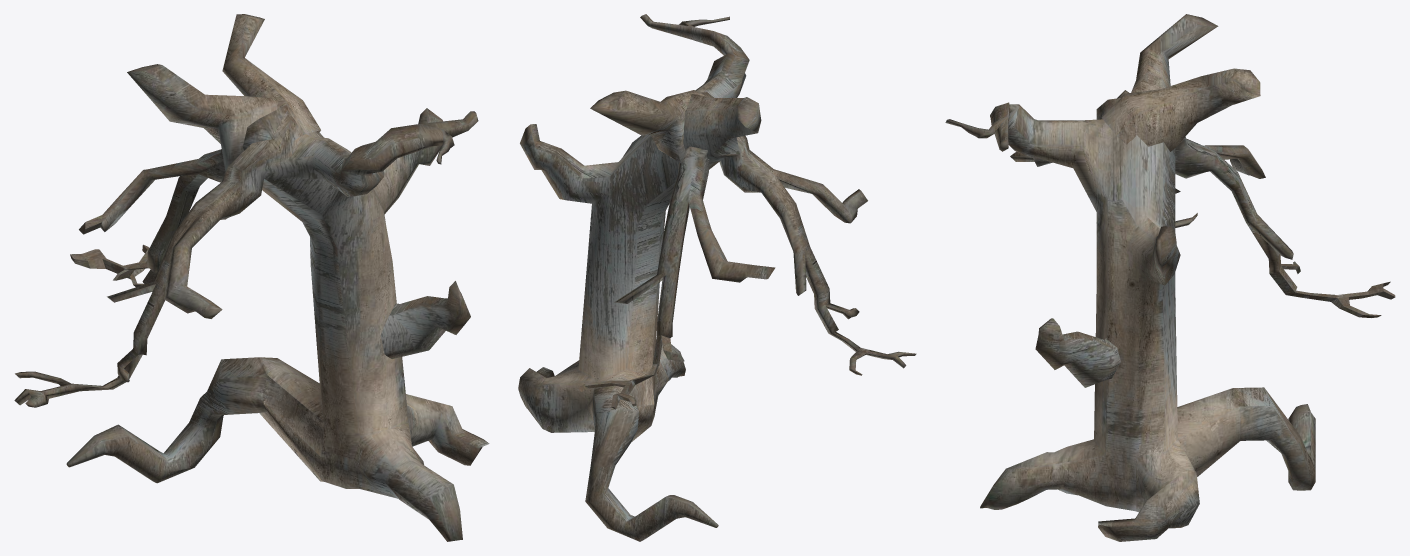
File: DeadTree 1.fbx
3 views of the same model, side by side, from view 1: azimuth 30°, elevation 25°; view 2: azimuth 150°, elevation 25°; view 3: azimuth 270°, elevation 25° (orthographic). The views are drawn at different scales.
Parts seen in each view (by area): view 1: pCube6; view 2: pCube6; view 3: pCube6.
Part boxes in pixels (box(x1,y1,x2,y2)): pCube6: box(14, 14, 489, 541); pCube6: box(518, 14, 916, 541); pCube6: box(945, 14, 1395, 541).
Bounding box in the file's own units: 7.98 × 8.06 × 7.51.
